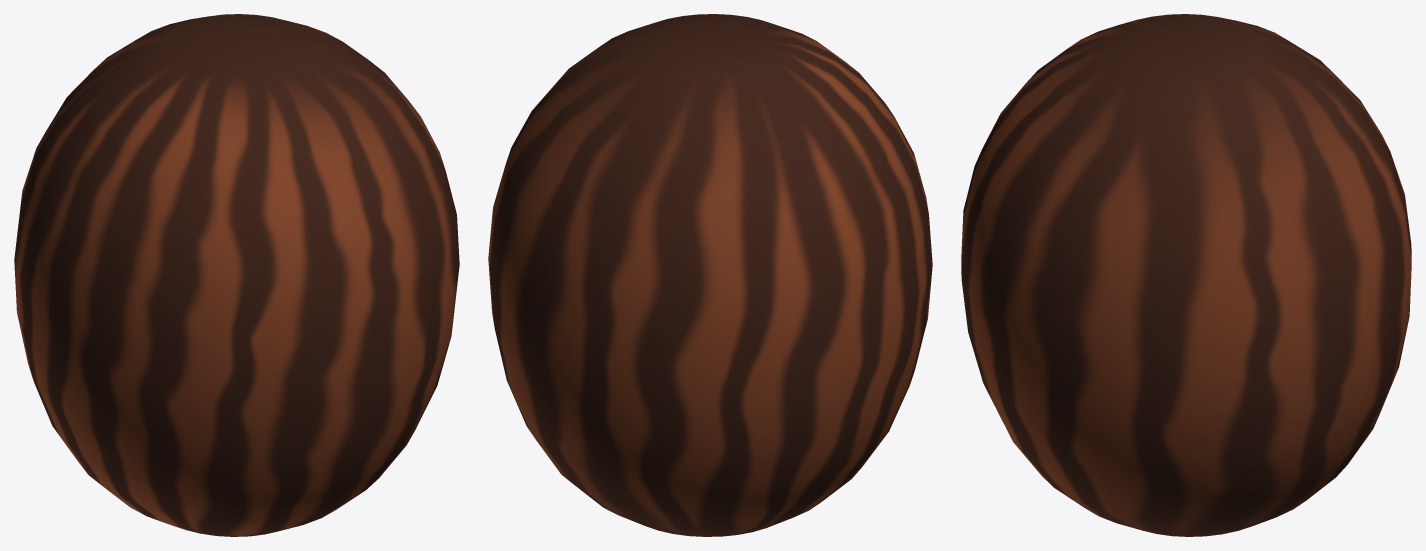
Rendered from melonRotten.fbx.
3 renders of one model, left to right at view 1: azimuth 30°, elevation 25°; view 2: azimuth 150°, elevation 25°; view 3: azimuth 270°, elevation 25°, orthographic.
Visible parts, largest first — view 1: melonRotten; view 2: melonRotten; view 3: melonRotten.
Boxes of the visible parts, bbox=[...] form: melonRotten: bbox=[14, 14, 459, 536]; melonRotten: bbox=[488, 14, 932, 536]; melonRotten: bbox=[961, 14, 1411, 536].
Bounding box in the file's own units: 0.1716 × 0.2045 × 0.1745.
1 material, 1 textured.
